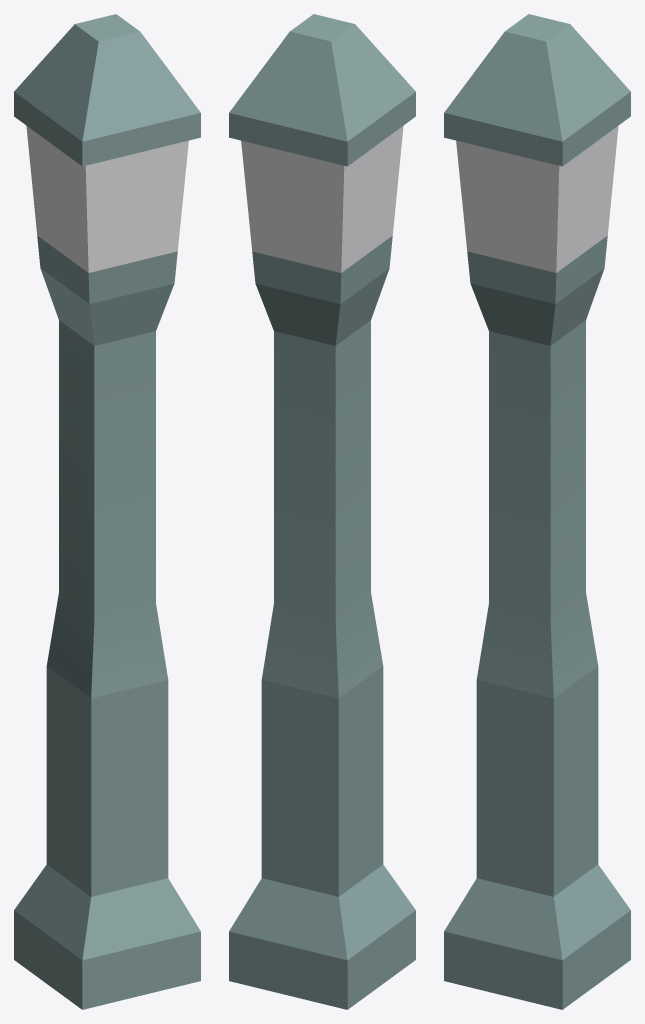
The model's file is Lightpost_01.glb.
3 renders of one model, left to right at view 1: azimuth 30°, elevation 25°; view 2: azimuth 150°, elevation 25°; view 3: azimuth 330°, elevation 25°, orthographic.
Visible parts, largest first — view 1: Mesh1 Lightpost Model; view 2: Mesh1 Lightpost Model; view 3: Mesh1 Lightpost Model.
Part boxes in pixels (<box>): Mesh1 Lightpost Model: <box>14,14,200,1009</box>; Mesh1 Lightpost Model: <box>229,14,415,1009</box>; Mesh1 Lightpost Model: <box>444,14,630,1009</box>.
Bounding box in the file's own units: 0.5 × 3.8 × 0.5.
